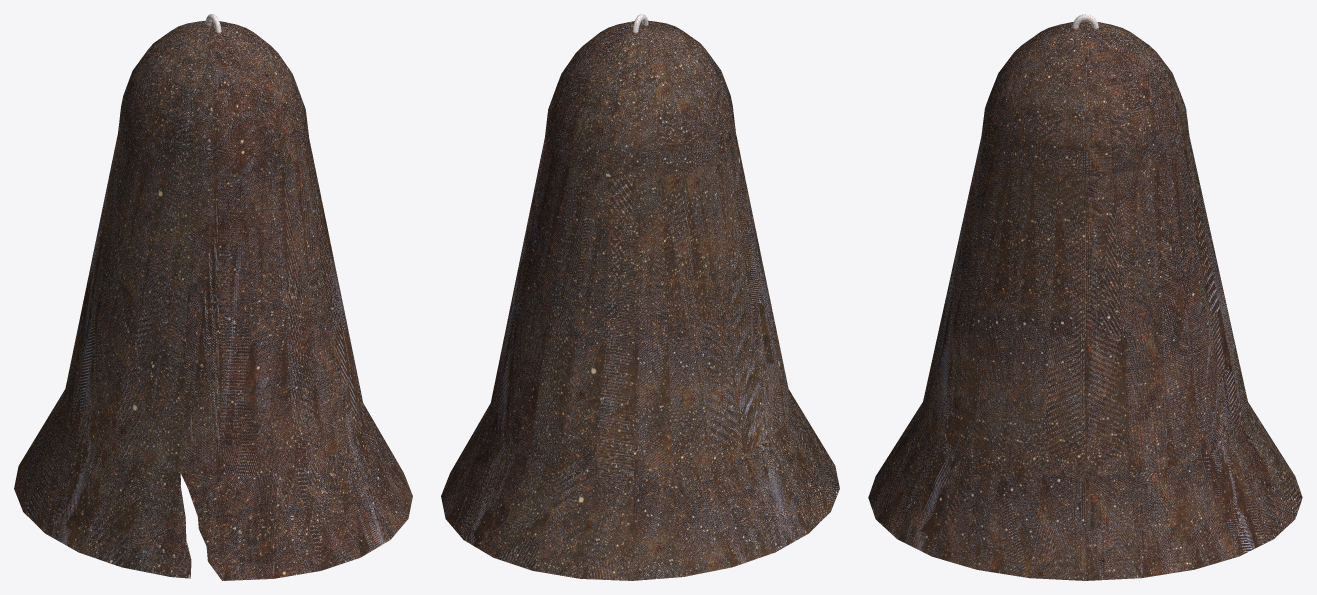
File: Bronze_Bell.dae
3 renders of one model, left to right at view 1: azimuth 30°, elevation 25°; view 2: azimuth 150°, elevation 25°; view 3: azimuth 270°, elevation 25°, orthographic.
Visible parts, largest first — view 1: group_0; view 2: group_0; view 3: group_0.
Part boxes in pixels (x1,y1,x2,y2): group_0: [14, 20, 412, 580]; group_0: [441, 20, 839, 580]; group_0: [868, 21, 1302, 580].
Size of the model in its own units: 96.67 by 107 by 131.
